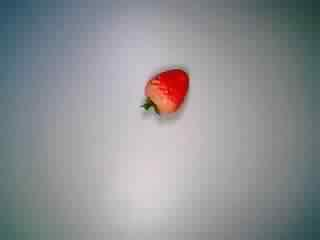strawberry: (129, 60, 197, 124)
